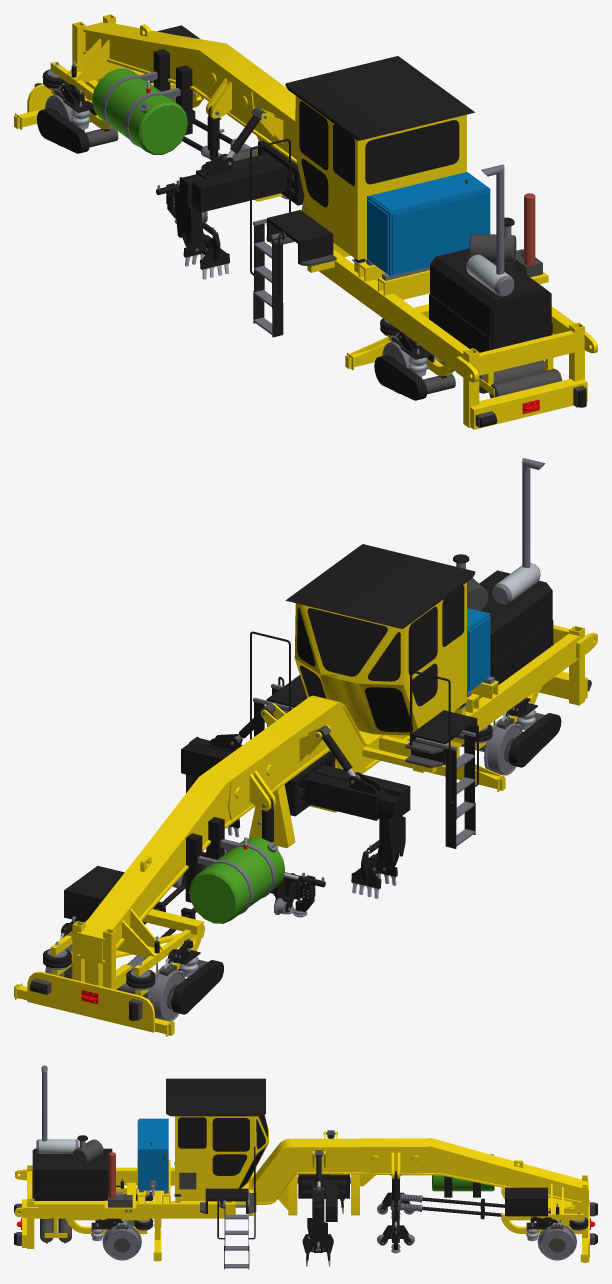
Rendered from rail-tie-inserter.glb.
3 renders of one model, top to bottom at view 1: azimuth 30°, elevation 25°; view 2: azimuth 150°, elevation 25°; view 3: azimuth 270°, elevation 25°, orthographic. The views are drawn at different scales.
Visible parts, largest first — view 1: Object_2, Object_4, Object_3; view 2: Object_2, Object_4, Object_3; view 3: Object_2, Object_4, Object_3.
Part boxes in pixels (x1,y1,x2,y2): Object_2: (14,14,597,429); Object_4: (45,94,459,393); Object_3: (85,80,304,212); Object_2: (14,458,597,1036); Object_4: (45,585,522,1021); Object_3: (116,703,410,989); Object_2: (14,1065,597,1269); Object_4: (102,1115,576,1260); Object_3: (297,1150,575,1252).
Bounding box in the file's own units: 3.05 × 3.57 × 11.13.
1 material, 1 textured.
